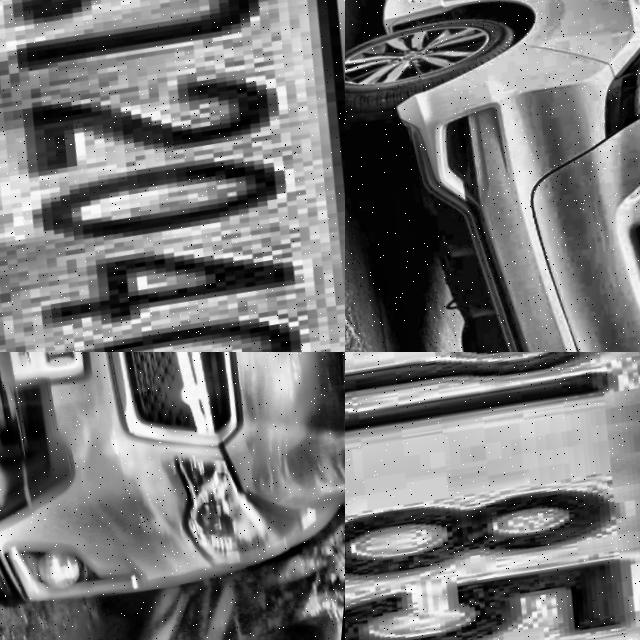license-plate: (0, 0, 345, 352), (345, 352, 640, 640)
